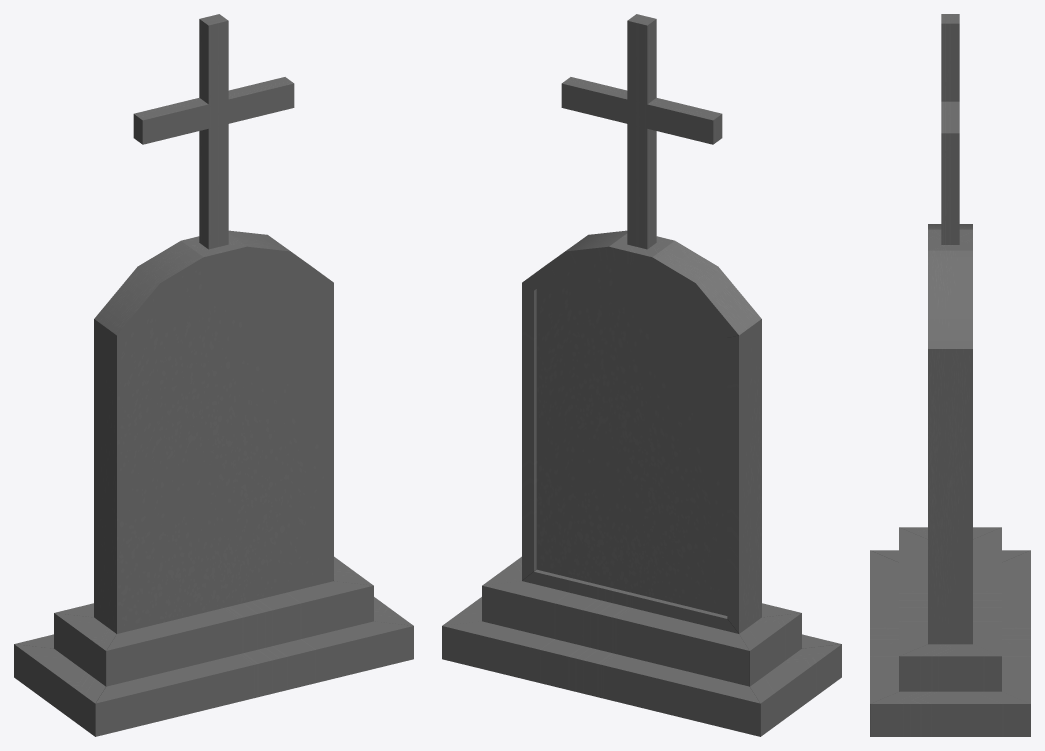
File: Lapida 1.fbx
3 renders of one model, left to right at view 1: azimuth 30°, elevation 25°; view 2: azimuth 150°, elevation 25°; view 3: azimuth 270°, elevation 25°, orthographic.
Parts seen in each view (by area): view 1: Lapida; view 2: Lapida; view 3: Lapida.
Boxes of the visible parts, x1,y1,x2,y2 form: Lapida: (14, 14, 413, 736); Lapida: (442, 14, 841, 736); Lapida: (870, 14, 1030, 736).
Size of the model in its own units: 136 by 264 by 59.99.
